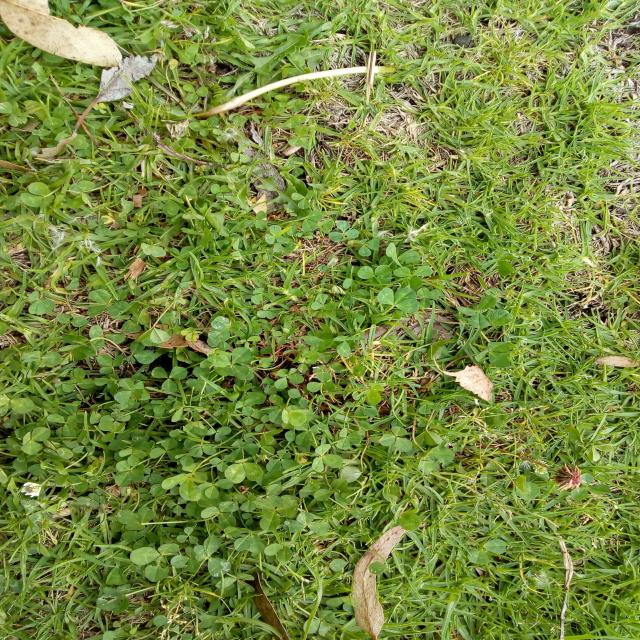Four Leaf Clover: (274, 368, 304, 389)
